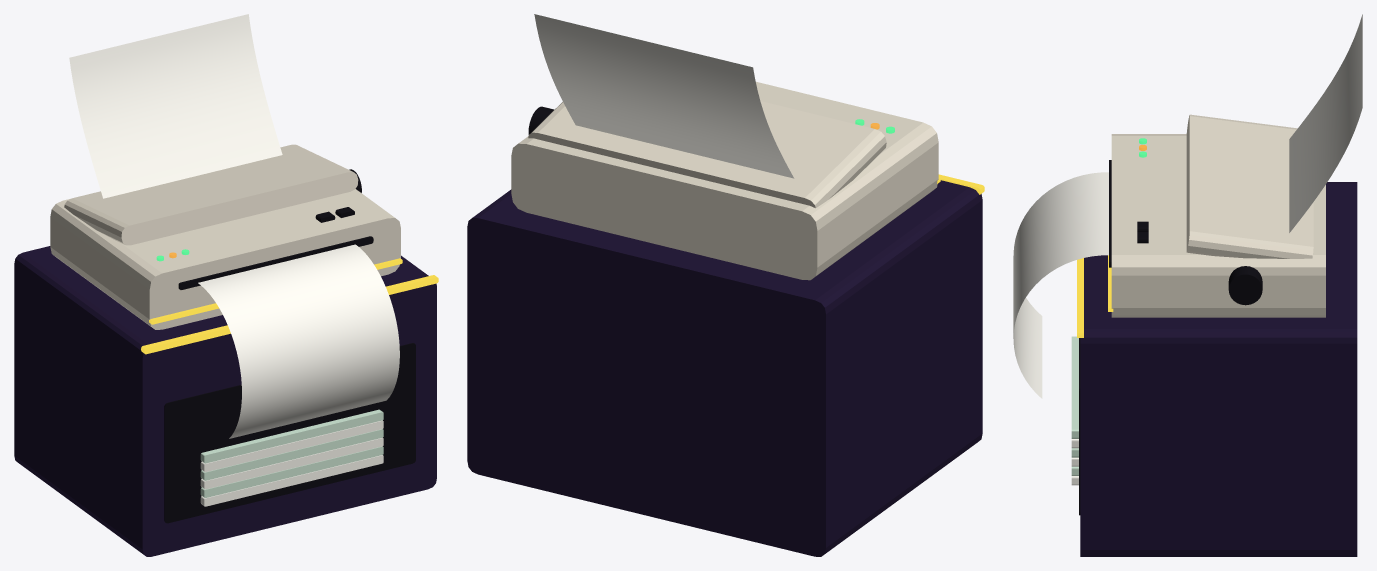
The model's file is printer.glb.
3 views of the same model, side by side, from view 1: azimuth 30°, elevation 25°; view 2: azimuth 150°, elevation 25°; view 3: azimuth 270°, elevation 25° (orthographic). The views are drawn at different scales.
Visible parts, largest first — view 1: Stand, PaperIn, Sheet, Chassis, Lid, Recess, Stack (×6), Trim_Stand, Slot, Trim_Chassis; view 2: Stand, Chassis, PaperIn, Lid; view 3: Stand, Chassis, Lid, Sheet, PaperIn, Knob, Stack, Trim_Stand.
Part boxes in pixels (x1,y1,x2,y2): Stand: (14,246,436,556); PaperIn: (69,14,282,198); Sheet: (198,244,399,438); Chassis: (50,189,400,329); Lid: (64,144,358,245); Recess: (164,343,415,523); Stack (×6): (200,409,383,506); Trim_Stand: (141,275,438,354); Slot: (178,236,373,289); Trim_Chassis: (149,258,402,324); Stand: (467,180,982,556); Chassis: (511,81,938,280); PaperIn: (534,14,794,178); Lid: (528,101,886,208); Stand: (1080,182,1357,556); Chassis: (1111,134,1325,317); Lid: (1186,114,1313,258); Sheet: (1013,172,1108,398); PaperIn: (1289,14,1362,232); Knob: (1228,266,1262,305); Stack: (1071,336,1078,438); Trim_Stand: (1077,258,1083,337).
Size of the model in its own units: 0.82 by 1.04 by 0.7817.
